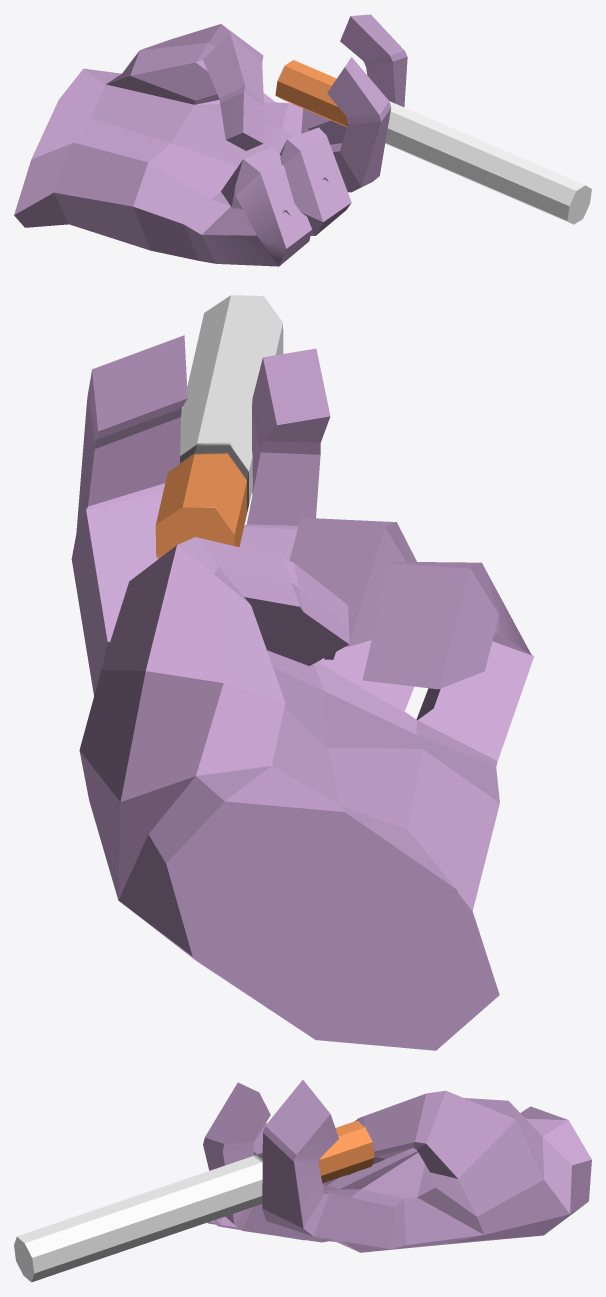
The model's file is Smokehand.glb.
The picture shows the model from 3 angles, top to bottom: view 1: azimuth 30°, elevation 25°; view 2: azimuth 150°, elevation 25°; view 3: azimuth 270°, elevation 25°; orthographic projection. The views are drawn at different scales.
Visible parts, largest first — view 1: ModelArm.003; view 2: ModelArm.003; view 3: ModelArm.003.
Part boxes in pixels (bbox=[...]): ModelArm.003: bbox=[14, 14, 591, 266]; ModelArm.003: bbox=[71, 295, 534, 1050]; ModelArm.003: bbox=[14, 1080, 591, 1282].
Size of the model in its own units: 1.17 by 0.706 by 1.5.
Materials: 1 (1 with a texture image).
